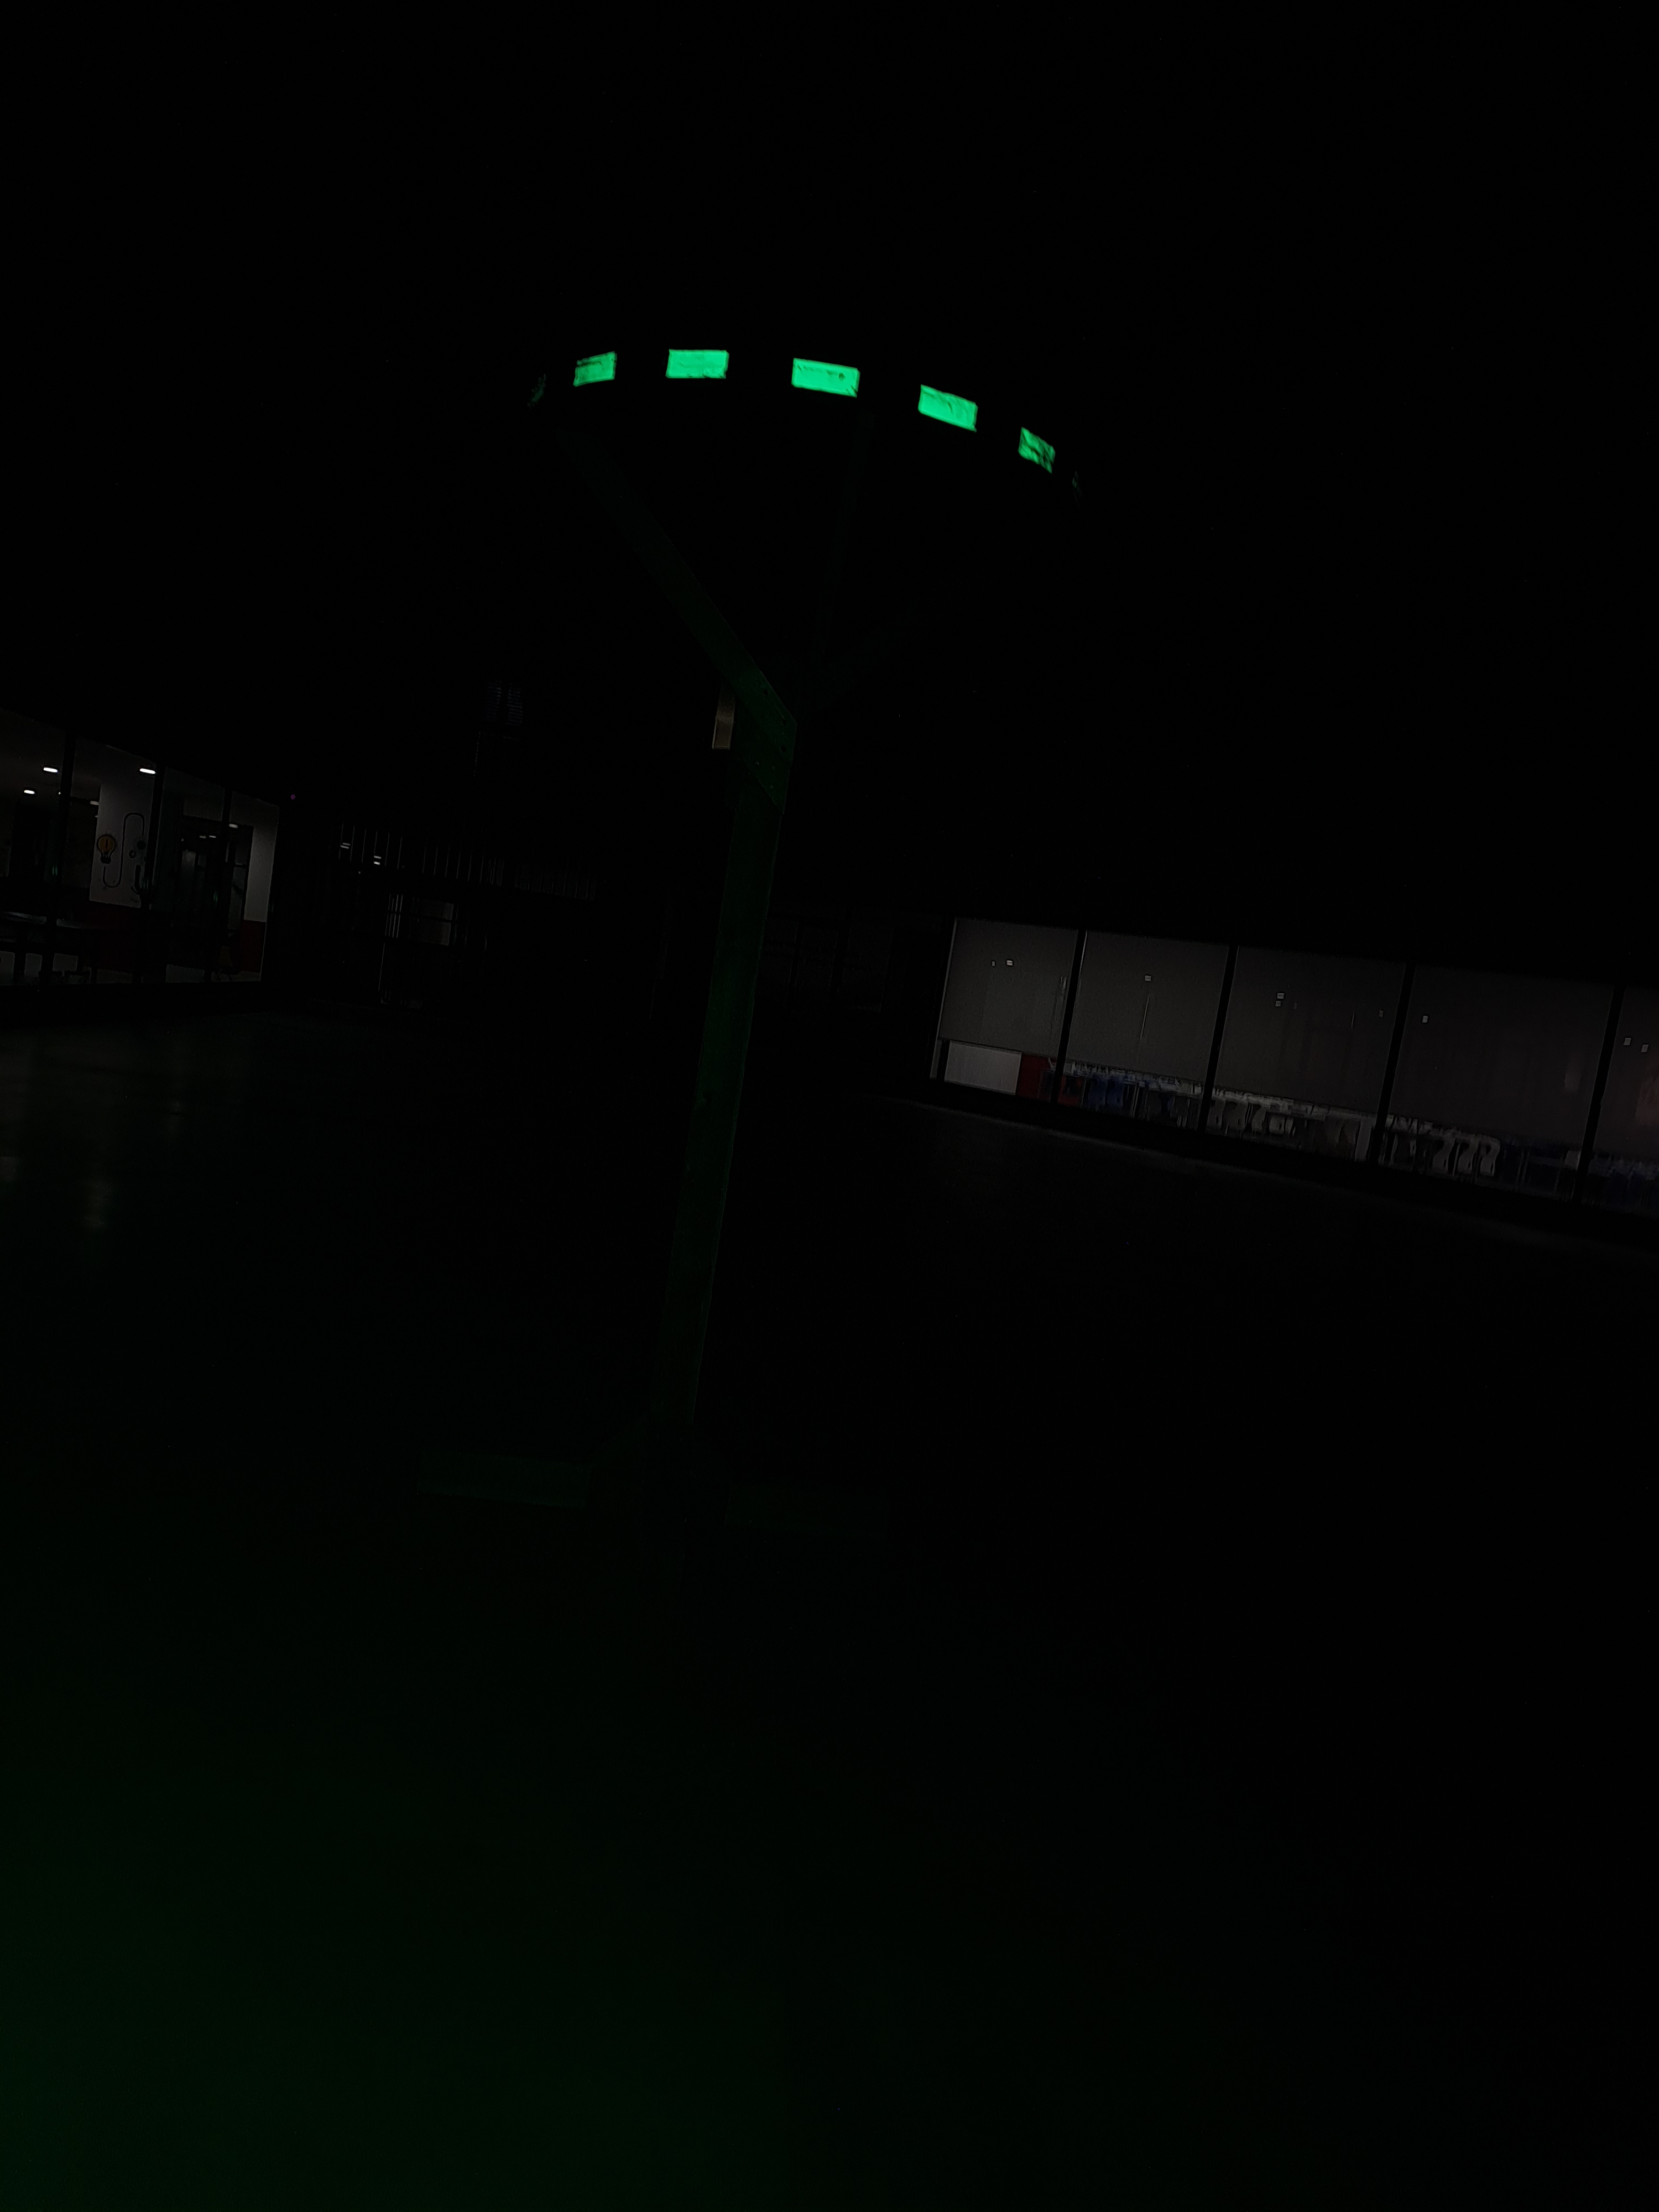hoop: (568, 334, 1063, 477)
